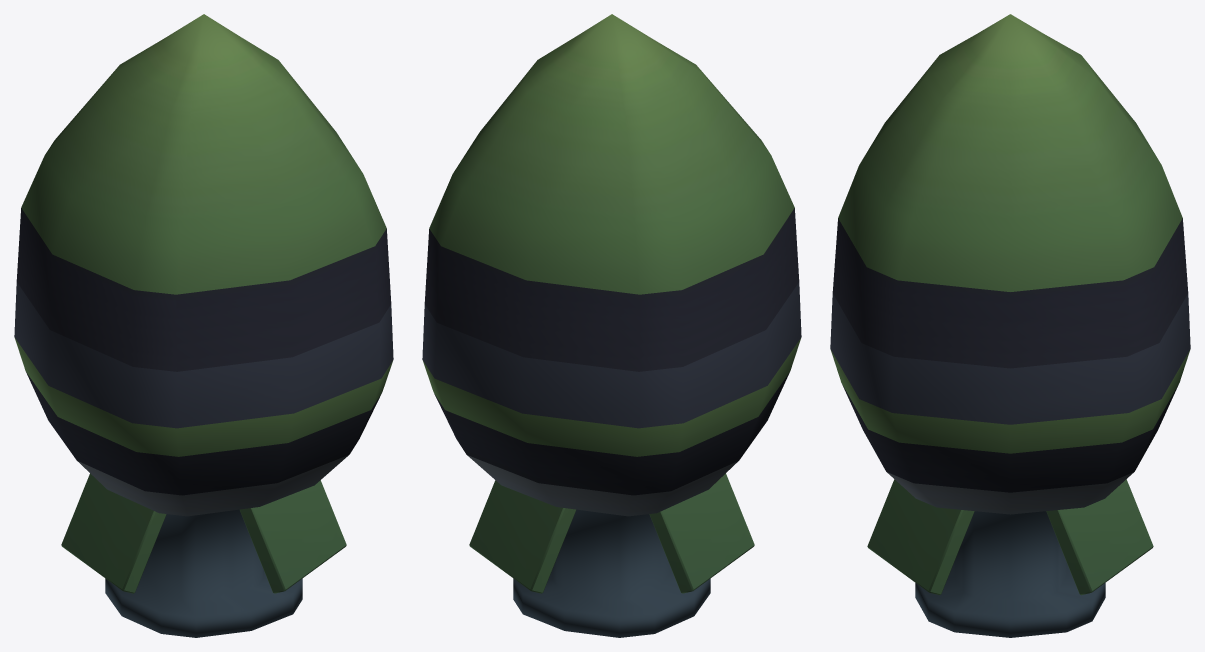
Rendered from Bomb_Atom.1.fbx.
3 renders of one model, left to right at view 1: azimuth 30°, elevation 25°; view 2: azimuth 150°, elevation 25°; view 3: azimuth 270°, elevation 25°, orthographic.
Parts seen in each view (by area): view 1: Bomb_Atom_1, Cube_2, Cube_1; view 2: Bomb_Atom_1, Cube_2, Cube_0; view 3: Bomb_Atom_1, Cube_0, Cube_1.
Part boxes in pixels (x1,y1,x2,y2): Bomb_Atom_1: [14, 14, 393, 637]; Cube_2: [61, 473, 166, 593]; Cube_1: [240, 480, 346, 593]; Bomb_Atom_1: [422, 14, 801, 637]; Cube_2: [649, 473, 754, 593]; Cube_0: [469, 480, 576, 593]; Bomb_Atom_1: [830, 14, 1190, 637]; Cube_0: [1046, 479, 1153, 595]; Cube_1: [867, 479, 974, 595].
Bounding box in the file's own units: 109 × 194 × 109.
Materials: 1 (1 with a texture image).
